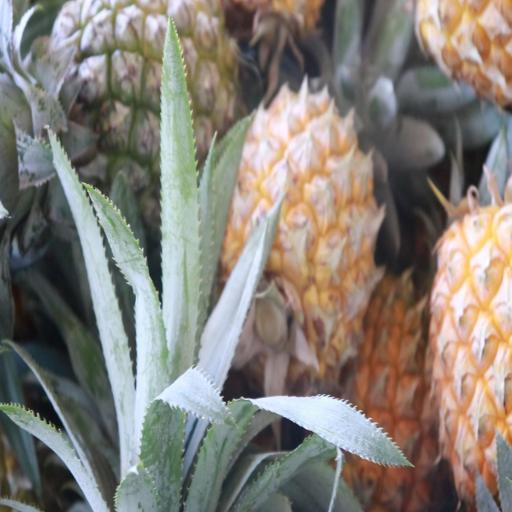Pineapple - v8 v1: (221, 92, 378, 376), (423, 197, 512, 505)
